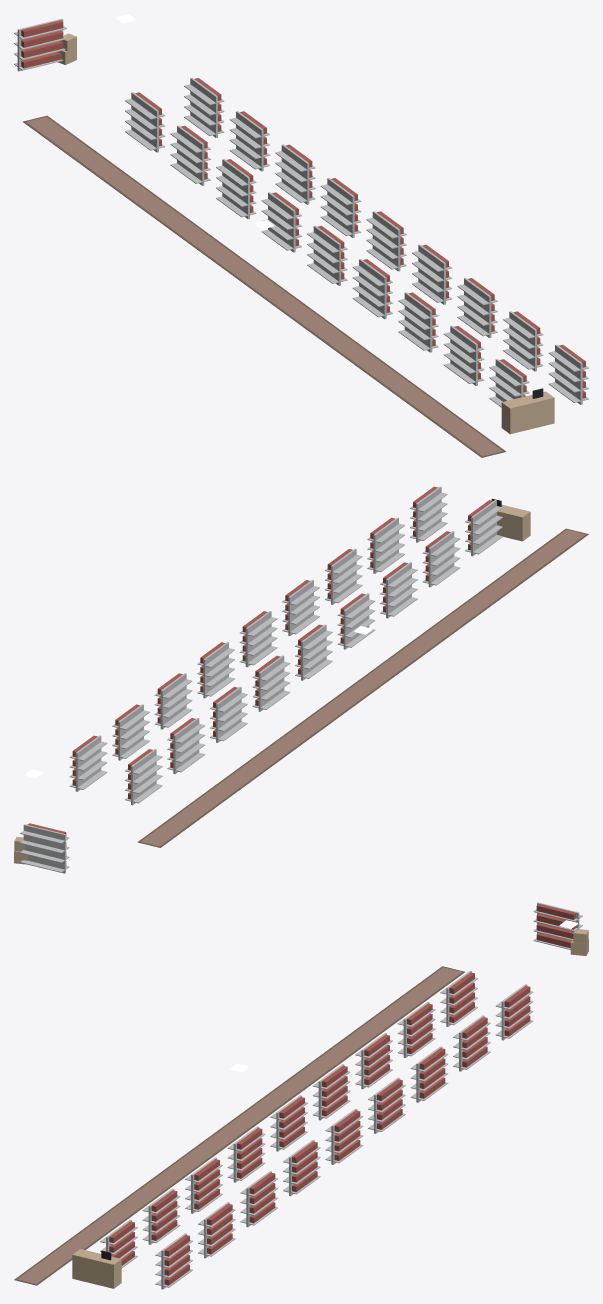
Rendered from fine-s0.glb.
3 renders of one model, top to bottom at view 1: azimuth 30°, elevation 25°; view 2: azimuth 150°, elevation 25°; view 3: azimuth 330°, elevation 25°, orthographic. The views are drawn at different scales.
Visible parts, largest first — view 1: soft-s0, shelving.000, shop-counter.000, shelf.011, shelf.013, shelf.006, shelf.016, shelf.002, shelf.004, shelf.009, shelf.001, shelf.012 (+9 smaller); view 2: soft-s0, shelving.000, shelf.001, shelf.009, shelf.007, shelf.013, shelf.003, shelf.011, shelf.015, shelf.006, shelf.008, shelf.010 (+9 smaller); view 3: soft-s0, shop-counter.000, shelving.000, shelf.007, shelf.011, shelf.013, shelf.003, shelf.015, shelf.001, shelf.009, shelf.005, shelf.010 (+9 smaller).
Part boxes in pixels (x1,y1,x2,y2): soft-s0: (23,115,506,457); shelving.000: (14,18,66,71); shop-counter.000: (501,388,554,434); shelf.011: (275,144,315,204); shelf.013: (366,211,406,271); shelf.006: (398,292,438,352); shelf.016: (503,311,543,371); shelf.002: (216,159,256,219); shelf.004: (307,225,347,285); shelf.009: (184,77,224,137); shelf.001: (170,125,210,185); shelf.012: (320,178,361,237); soft-s0: (137,528,588,847); shelving.000: (20,823,69,873); shelf.001: (167,718,205,773); shelf.009: (69,735,107,791); shelf.007: (422,531,460,587); shelf.013: (239,611,277,667); shelf.003: (252,655,290,711); shelf.011: (154,673,192,729); shelf.015: (325,548,362,604); shelf.006: (380,562,417,618); shelf.008: (465,500,502,556); shelf.010: (112,704,149,760); soft-s0: (14,966,464,1285); shop-counter.000: (72,1249,121,1288); shelving.000: (533,902,582,949); shelf.007: (142,1188,180,1244); shelf.011: (410,1046,448,1102); shelf.013: (325,1108,363,1164); shelf.003: (312,1064,350,1120); shelf.015: (240,1171,277,1227); shelf.001: (397,1002,435,1057); shelf.009: (495,984,533,1040); shelf.005: (227,1126,265,1182); shelf.010: (453,1015,490,1071).
Bounding box in the file's own units: 5.55 × 2.44 × 36.27.
